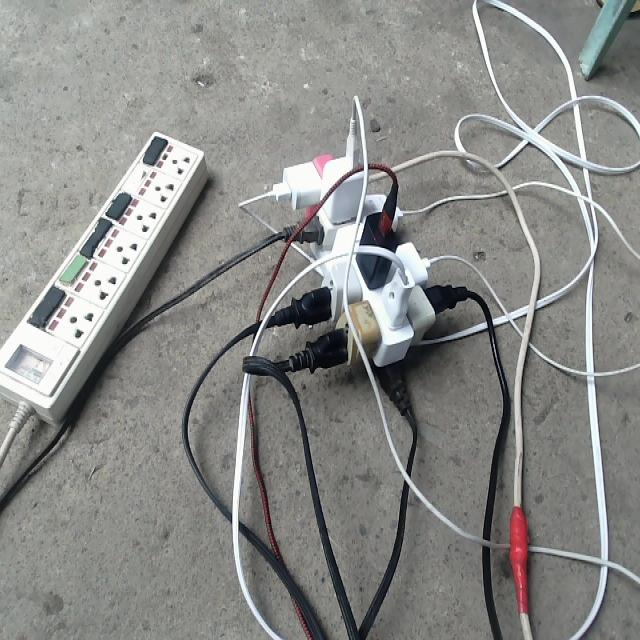-: (264, 92, 468, 417)
